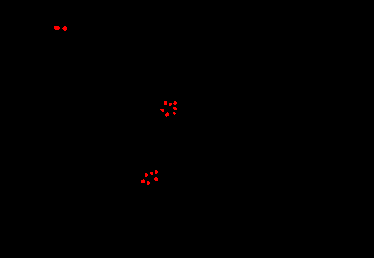Target: (62, 26, 67, 31), (54, 26, 60, 30), (165, 112, 169, 117), (173, 101, 177, 105), (154, 177, 158, 181), (141, 179, 145, 183), (164, 101, 167, 105), (173, 107, 177, 110), (160, 109, 164, 112), (155, 170, 158, 174), (145, 173, 148, 177), (147, 181, 150, 185), (169, 103, 172, 106), (173, 112, 176, 115), (150, 172, 153, 175)
